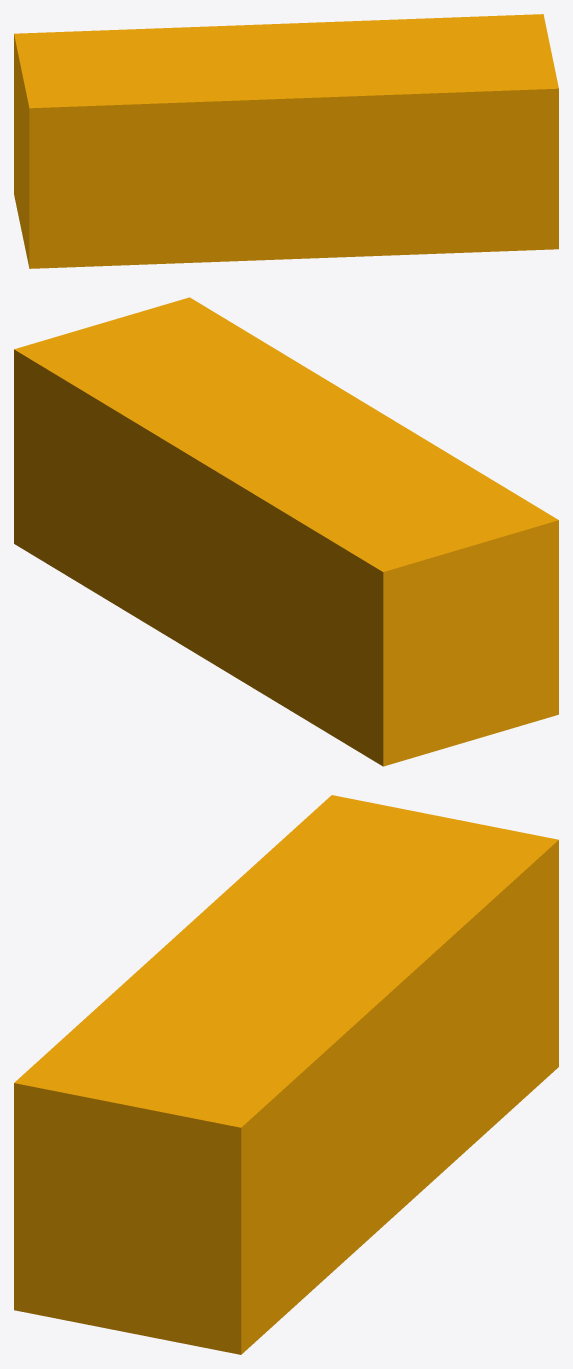
The model's file is YellowCuboid3-0622.FBX.
3 views of the same model, one above another, from view 1: azimuth 30°, elevation 25°; view 2: azimuth 150°, elevation 25°; view 3: azimuth 270°, elevation 25° (orthographic). The views are drawn at different scales.
Visible parts, largest first — view 1: YellowCuboid3; view 2: YellowCuboid3; view 3: YellowCuboid3.
Part boxes in pixels (x1,y1,x2,y2): YellowCuboid3: (14, 14, 558, 268); YellowCuboid3: (14, 297, 558, 766); YellowCuboid3: (14, 795, 558, 1354).
Bounding box in the file's own units: 15.71 × 5 × 10.87.
